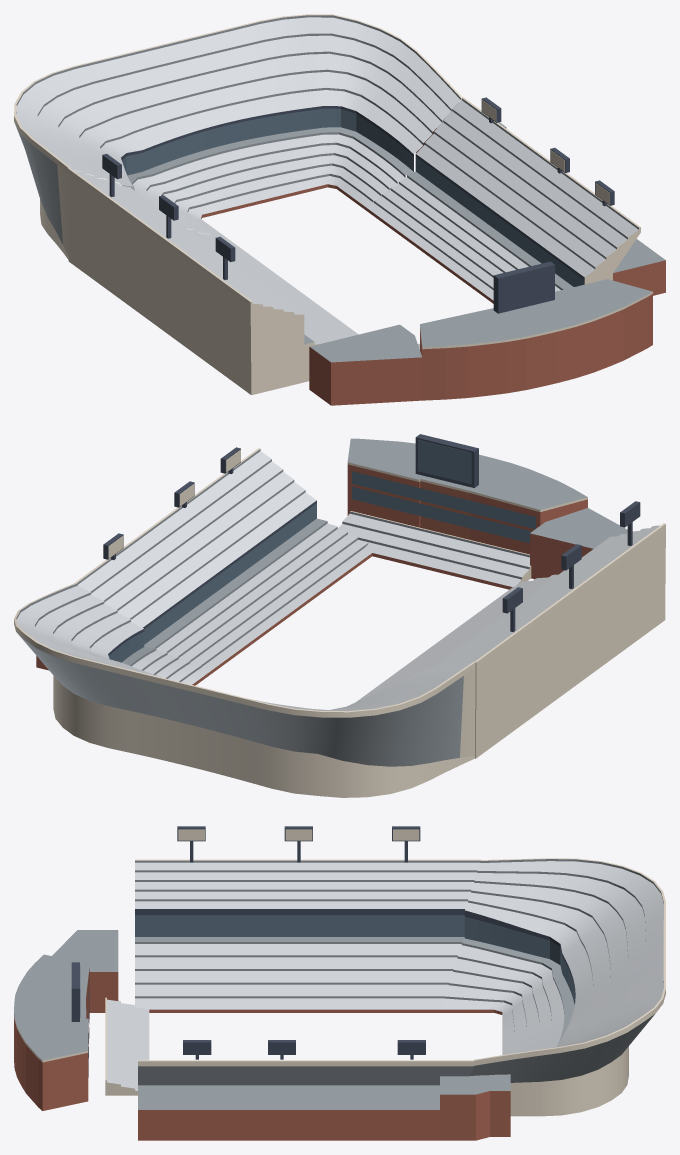
File: atl-bobby-dodd-stadium.glb
The picture shows the model from 3 angles, top to bottom: view 1: azimuth 30°, elevation 25°; view 2: azimuth 150°, elevation 25°; view 3: azimuth 270°, elevation 25°; orthographic projection. The views are drawn at different scales.
Visible parts, largest first — view 1: Bobby Dodd Stadium; view 2: Bobby Dodd Stadium; view 3: Bobby Dodd Stadium.
Boxes of the visible parts, x1=… form: Bobby Dodd Stadium: x1=14, y1=14, x2=665, y2=405; Bobby Dodd Stadium: x1=14, y1=434, x2=665, y2=797; Bobby Dodd Stadium: x1=14, y1=826, x2=665, y2=1140.
Bounding box in the file's own units: 161 × 48 × 231.
